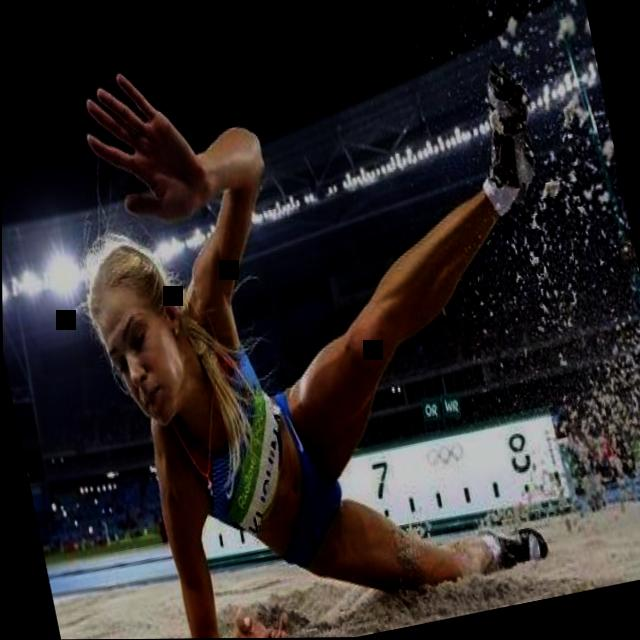Fall-Detected: (2, 0, 640, 640)
